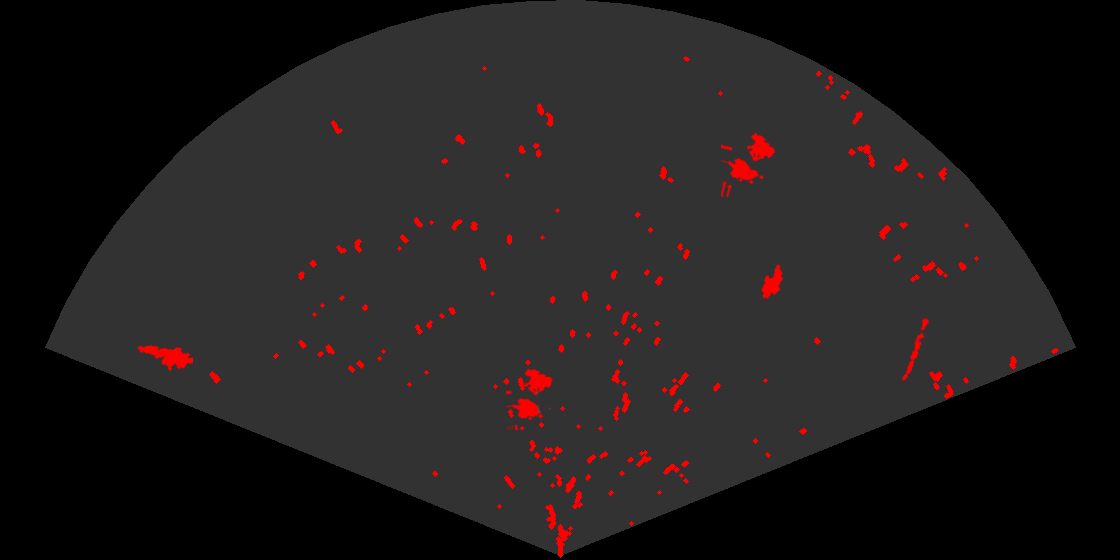AUV: (760, 262, 785, 301)
cage: (721, 131, 777, 197), (506, 367, 554, 430)
chain: (900, 315, 931, 384)
frogman: (135, 344, 193, 373)
